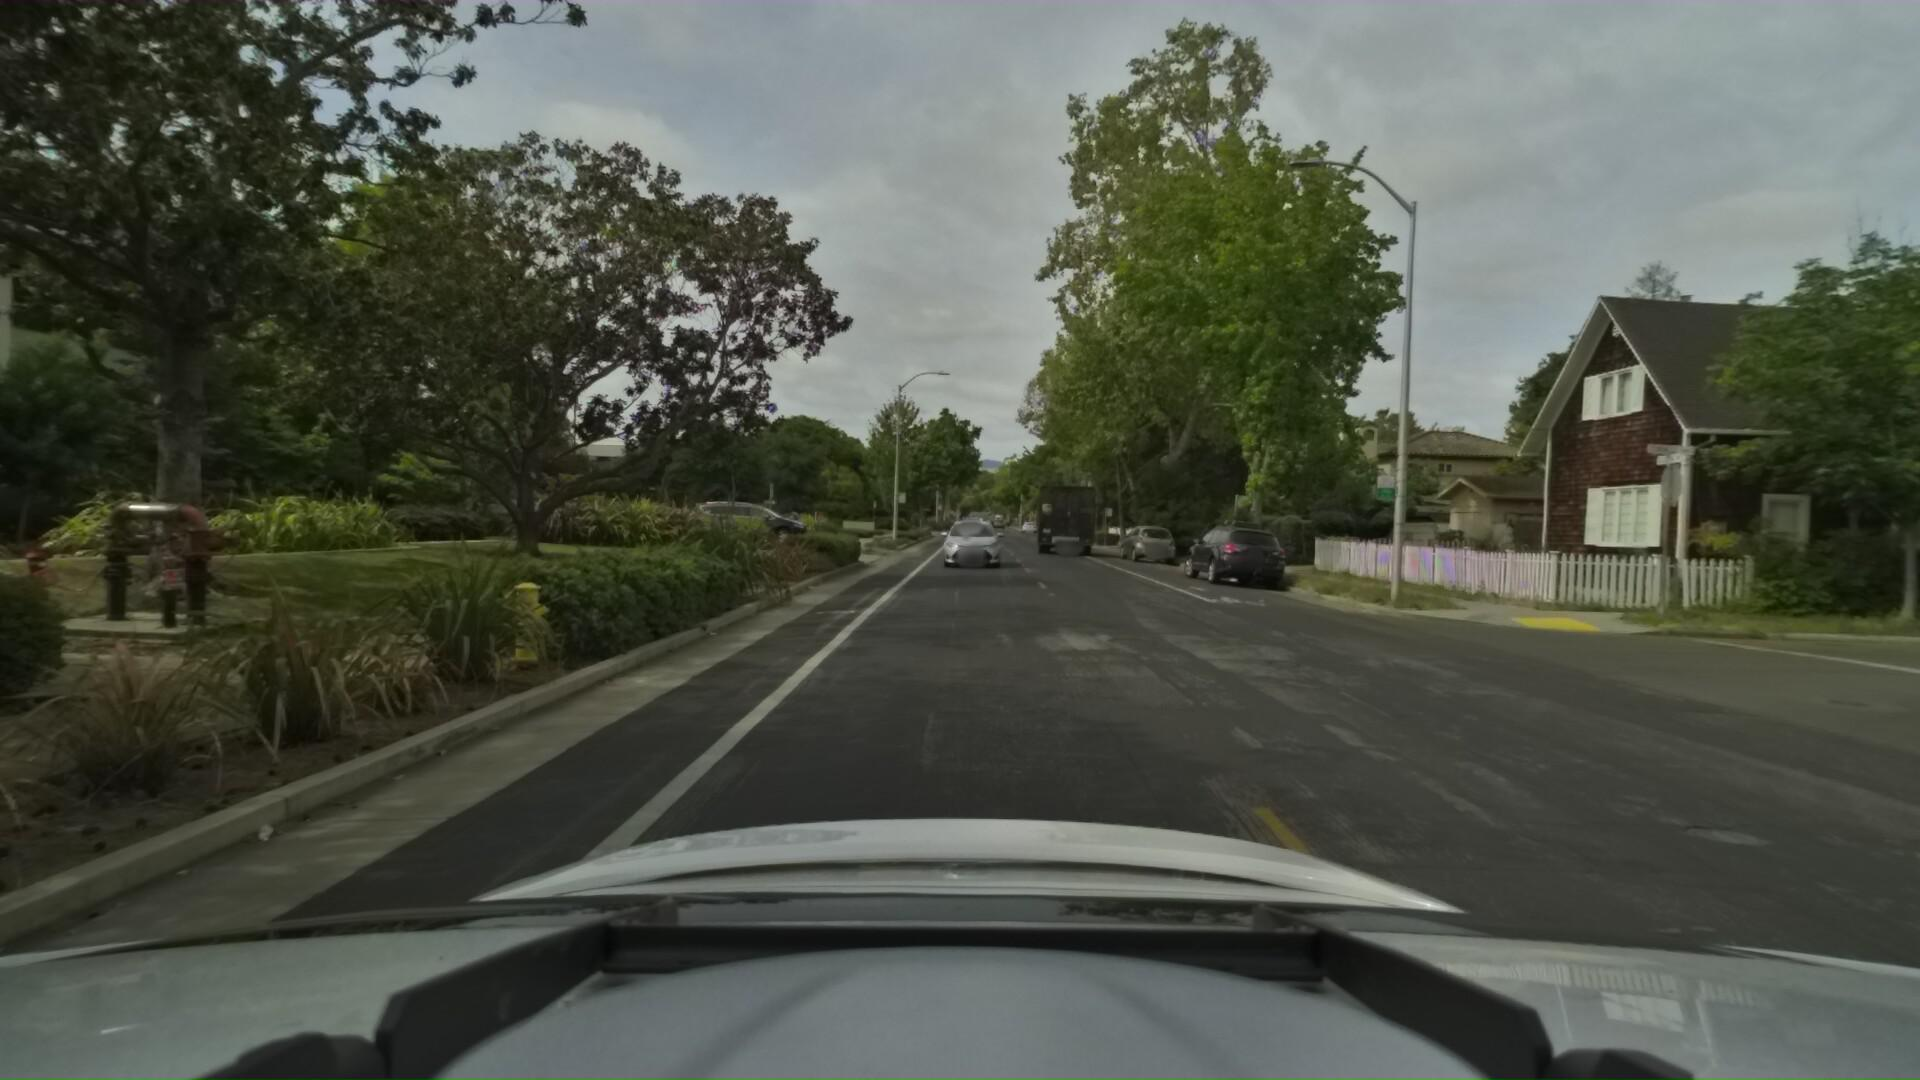car: (1171, 516, 1292, 589), (692, 500, 808, 543), (939, 514, 1004, 566), (1112, 521, 1178, 563)
truck: (1030, 479, 1095, 555)
